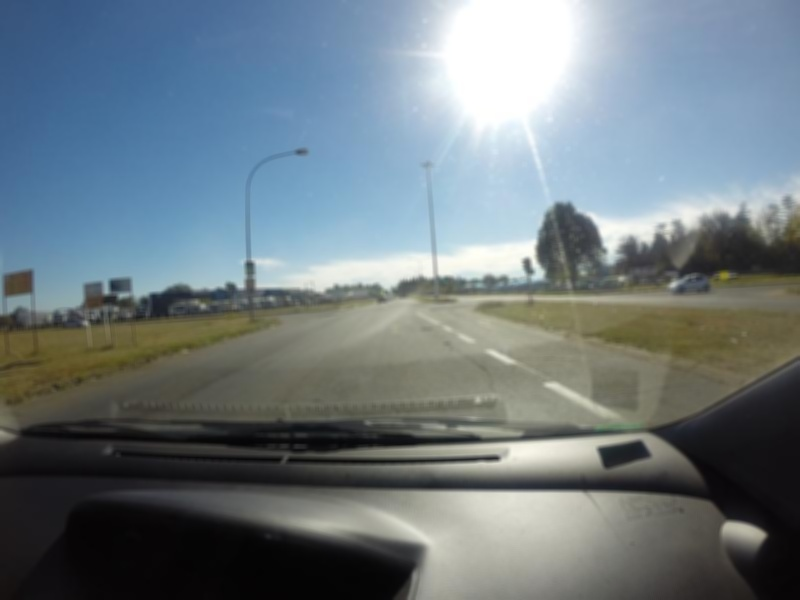pothole: (420, 323, 448, 336)
